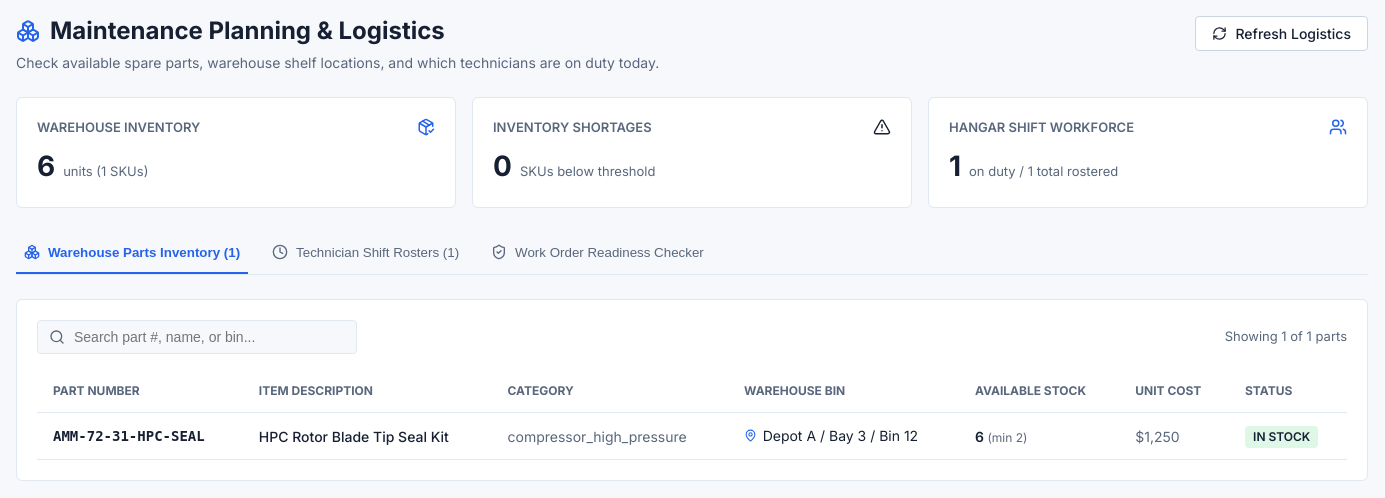
Test: Enterprise UI Pages › PlanningPage › renders warehouse parts inventory and shift workforce statistics
The image size is (1385, 498).
Expected: the heading "Maintenance Planning & Logistics" is shown, top-left (50, 16), bottom-right (445, 46)
Expected: the text "HPC Rotor Blade Tip Seal Kit" is shown, top-left (243, 413), bottom-right (492, 460)
Note: Switch to shifts tab
Click the button "Technician Shift Rosters (1)".
click(366, 253)  # box top-left (264, 232), bottom-right (467, 274)
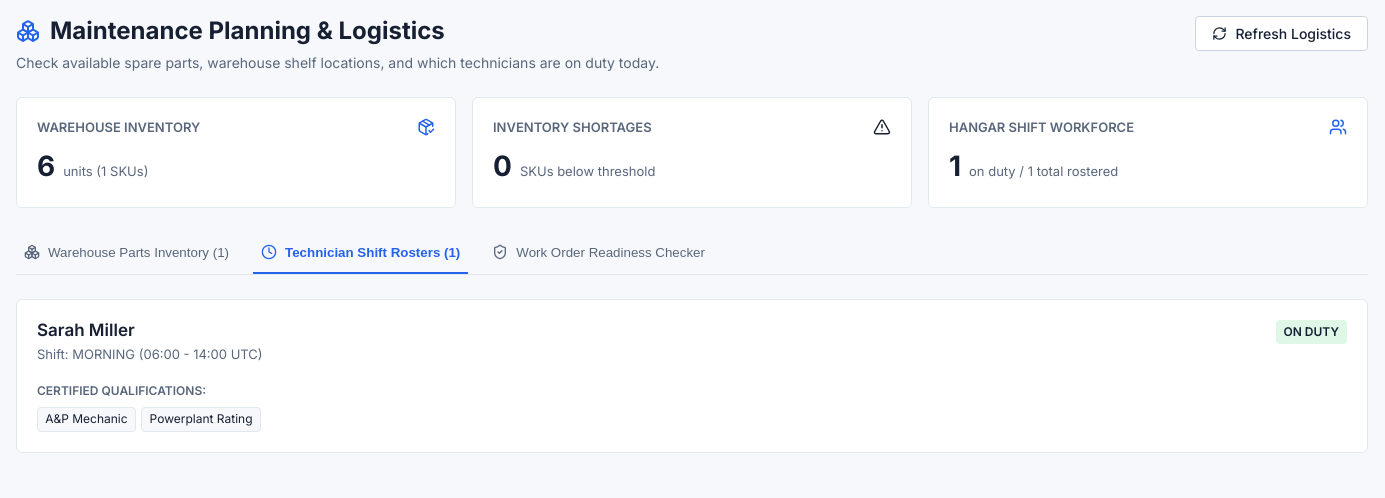
Result: the heading "Sarah Miller" is shown at top-left (37, 320), bottom-right (135, 340)
Result: the text "ON DUTY" is shown at top-left (1276, 320), bottom-right (1347, 344)
Result: the text "A&P Mechanic" is shown at top-left (37, 407), bottom-right (136, 432)
